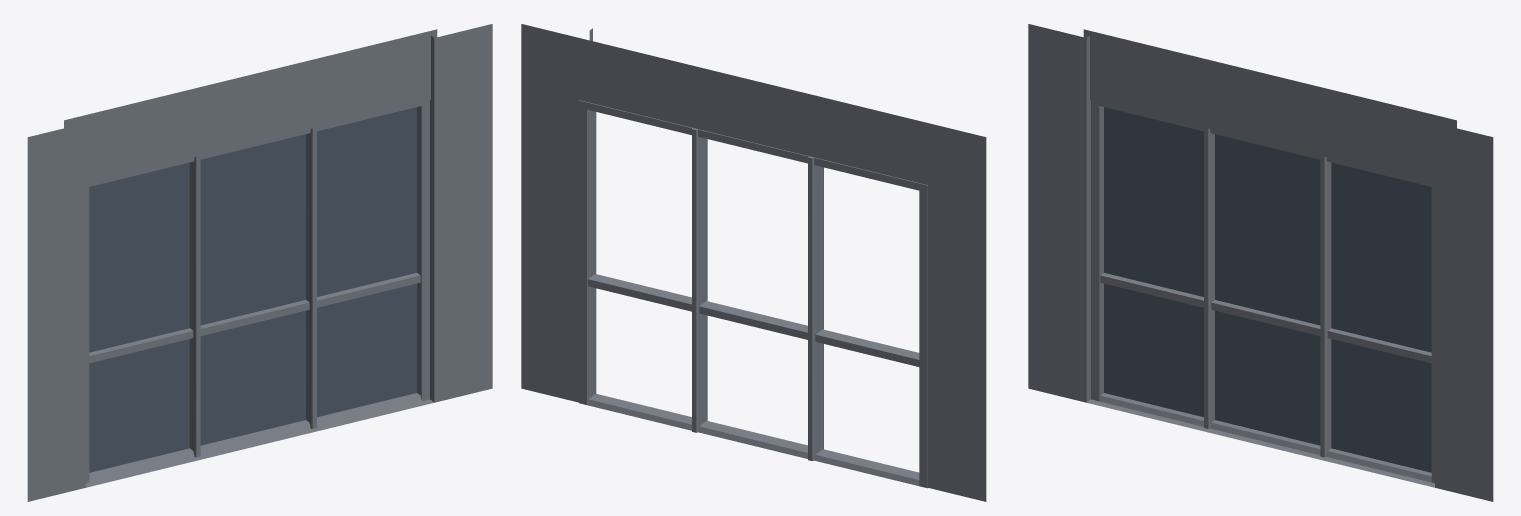
Rendered from env_block_metal_window.glb.
The picture shows the model from 3 angles, left to right: view 1: azimuth 30°, elevation 25°; view 2: azimuth 150°, elevation 25°; view 3: azimuth 330°, elevation 25°; orthographic projection.
Parts seen in each view (by area): view 1: part_0, part_1; view 2: part_0; view 3: part_0, part_1.
Part boxes in pixels (left/top/right/bottom): part_0: left=27, top=24, right=492, bottom=501; part_1: left=89, top=107, right=416, bottom=472; part_0: left=521, top=24, right=986, bottom=501; part_0: left=1028, top=24, right=1493, bottom=501; part_1: left=1104, top=107, right=1431, bottom=472.
Size of the model in its own units: 4 by 3 by 0.2239.
